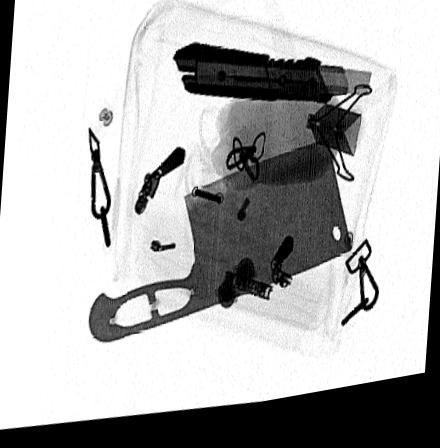Knife: (87, 150, 351, 347), (170, 47, 371, 116)
